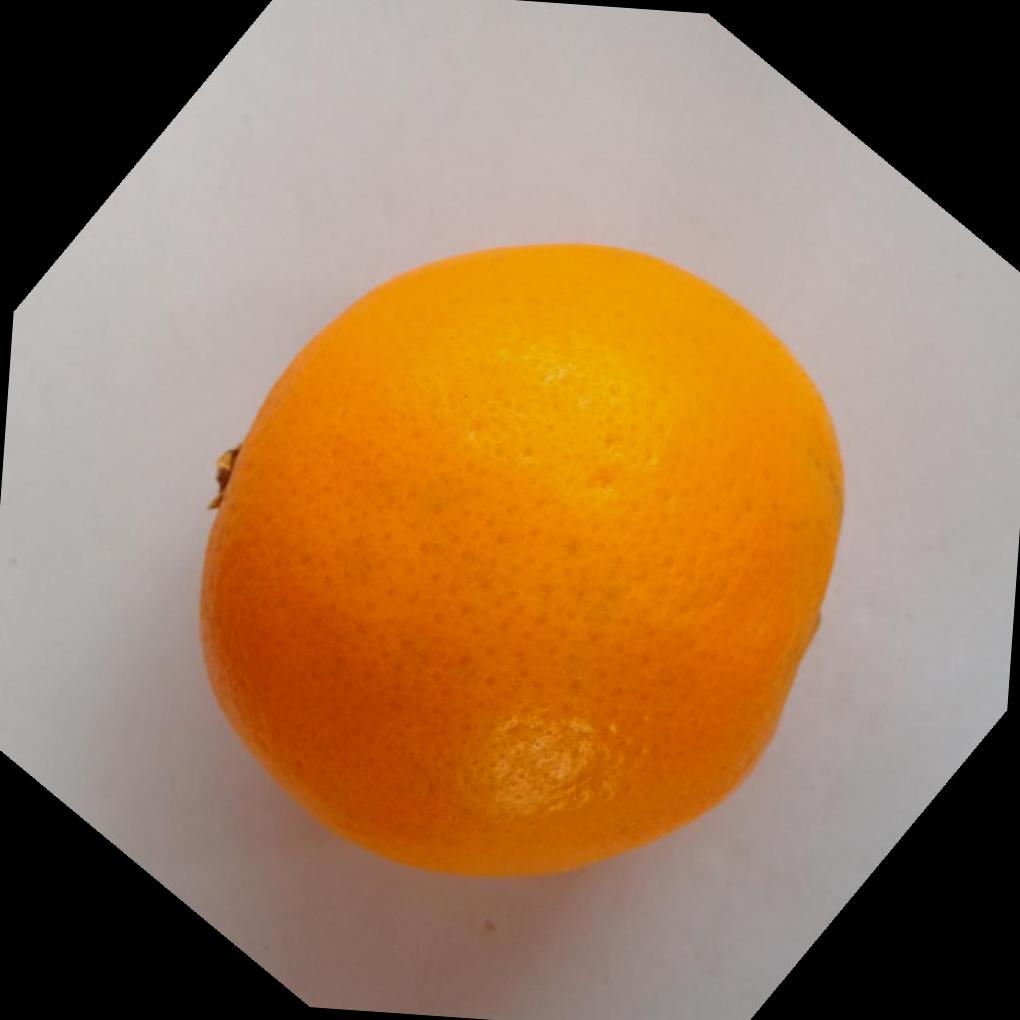FreshGuava: (196, 236, 848, 877)
